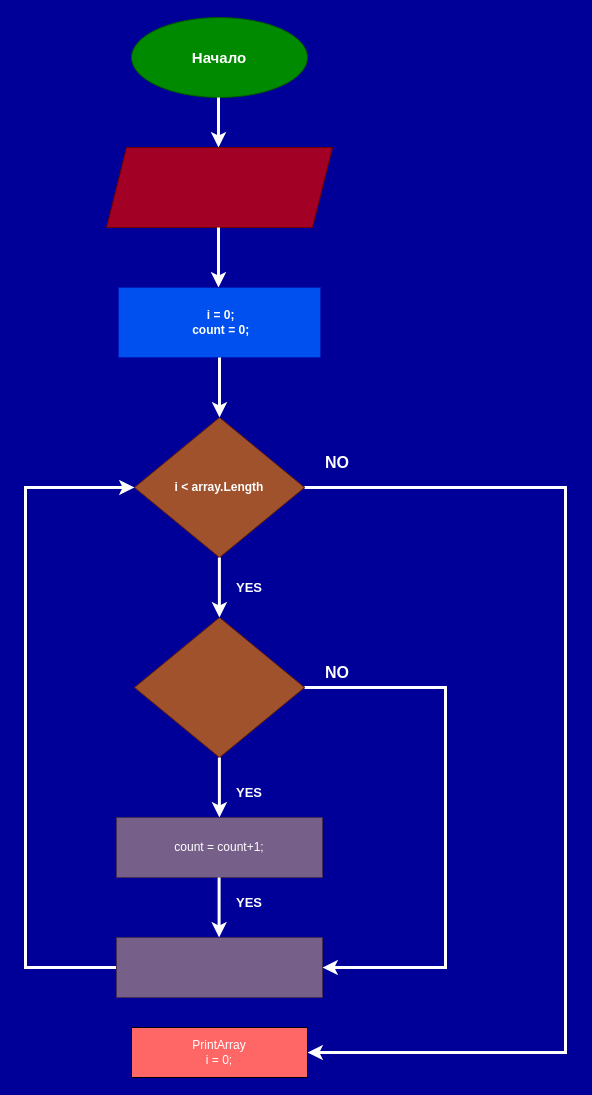
Image size: 592x1095. Some labels were removed from this diagram. Each missing label, with the box of its shape:
array[i].Length <=3: (134, 616, 304, 758)
i = i+1: (116, 936, 322, 998)
string[]arrayMax string[]arrayMini: (106, 146, 332, 228)
